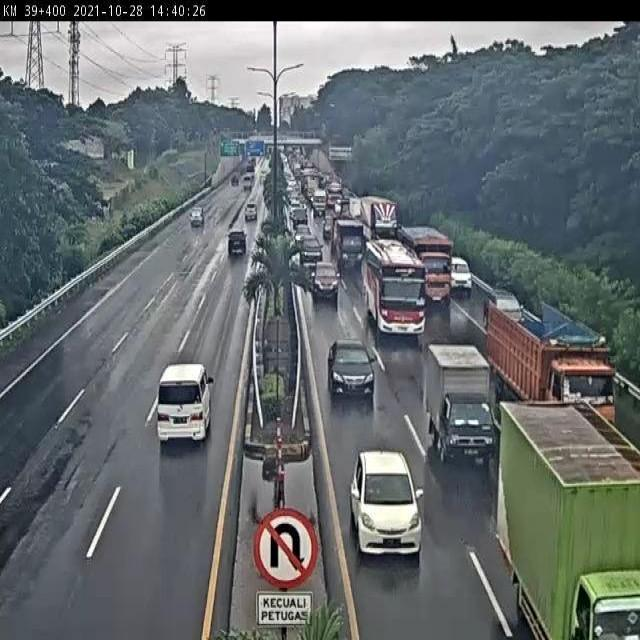bus-l-: (365, 238, 426, 334)
car: (348, 451, 425, 557), (156, 358, 212, 446), (326, 336, 377, 400), (482, 288, 525, 329), (312, 263, 340, 304), (448, 259, 474, 296), (299, 234, 322, 266), (228, 227, 248, 254)
truck-l-: (490, 299, 616, 437), (400, 228, 454, 309)
truck-m-: (337, 217, 367, 271)
truck-s-: (427, 346, 495, 458)
